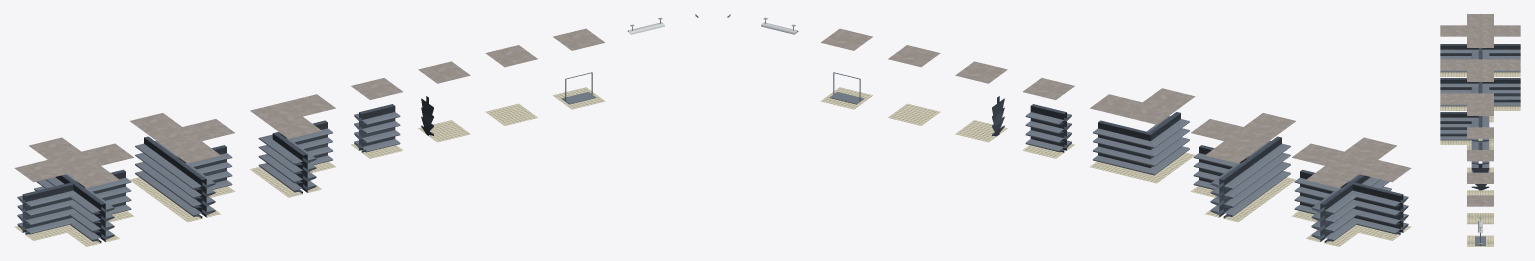
Rendered from GD_shelves.fbx.
The picture shows the model from 3 angles, left to right: view 1: azimuth 30°, elevation 25°; view 2: azimuth 150°, elevation 25°; view 3: azimuth 270°, elevation 25°; orthographic projection. The views are drawn at different scales.
Visible parts, largest first — view 1: Shelf_cross, Shelf_T, Shelf_Corner, Shelf_Single, Shelf_Single.001, ClothingRack, FloorSingle; view 2: Shelf_cross, Shelf_T, Shelf_Corner, Shelf_Single, Shelf_Single.001, ClothingRack, FloorSingle; view 3: Shelf_T, Shelf_cross, Shelf_Corner, Shelf_Single.001, ClothingRack, FloorSingle, Shelf_Single, Cylinder.
Part boxes in pixels (left/top/right/bottom): Shelf_cross: left=14, top=137, right=133, bottom=246; Shelf_T: left=130, top=113, right=234, bottom=222; Shelf_Corner: left=250, top=94, right=335, bottom=197; Shelf_Single: left=351, top=78, right=402, bottom=158; Shelf_Single.001: left=418, top=61, right=470, bottom=142; ClothingRack: left=553, top=28, right=605, bottom=109; FloorSingle: left=485, top=45, right=537, bottom=125; Shelf_cross: left=1292, top=137, right=1411, bottom=246; Shelf_T: left=1191, top=113, right=1295, bottom=222; Shelf_Corner: left=1090, top=88, right=1195, bottom=183; Shelf_Single: left=1023, top=78, right=1074, bottom=158; Shelf_Single.001: left=955, top=61, right=1007, bottom=142; ClothingRack: left=820, top=28, right=872, bottom=109; FloorSingle: left=888, top=45, right=940, bottom=125; Shelf_T: left=1440, top=59, right=1520, bottom=122; Shelf_cross: left=1440, top=14, right=1520, bottom=76; Shelf_Corner: left=1440, top=93, right=1493, bottom=149; Shelf_Single.001: left=1467, top=150, right=1493, bottom=195; ClothingRack: left=1467, top=195, right=1493, bottom=246; FloorSingle: left=1467, top=172, right=1493, bottom=224; Shelf_Single: left=1467, top=127, right=1493, bottom=172; Cylinder: left=1478, top=217, right=1482, bottom=233.
Size of the model in its own units: 12008 by 1019 by 1800.
